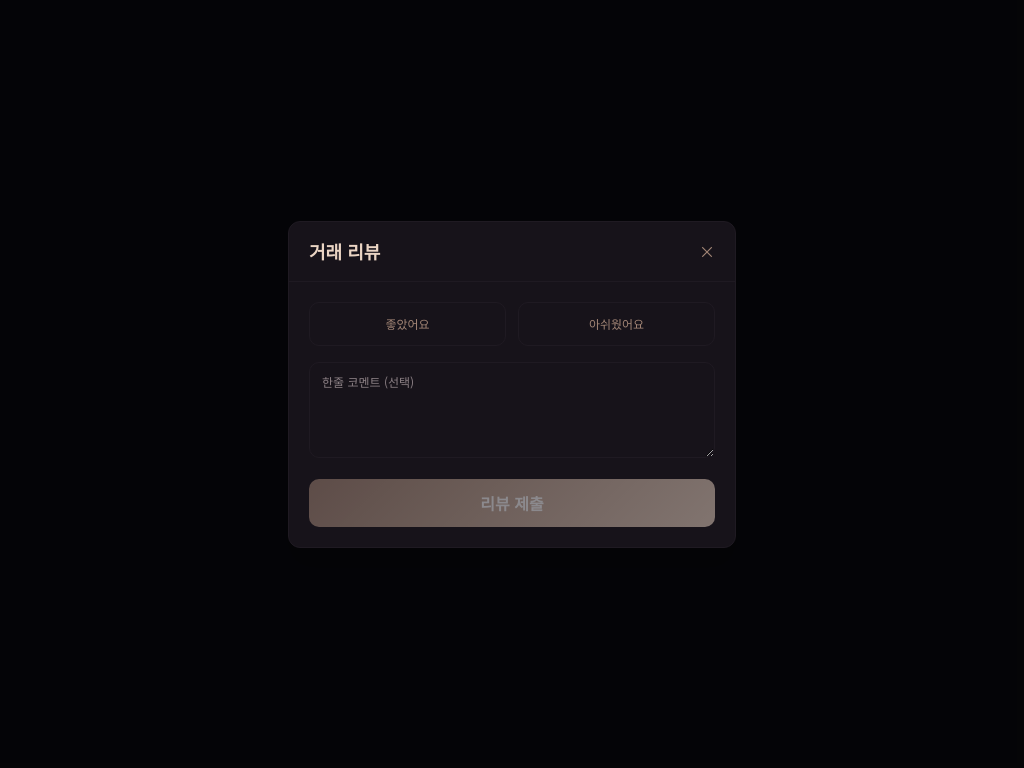
Test case: ReviewModal › shows selected rating state
The image size is (1024, 768).
Click the button "좋았어요".
click(408, 324)  # box [309,302,506,346]
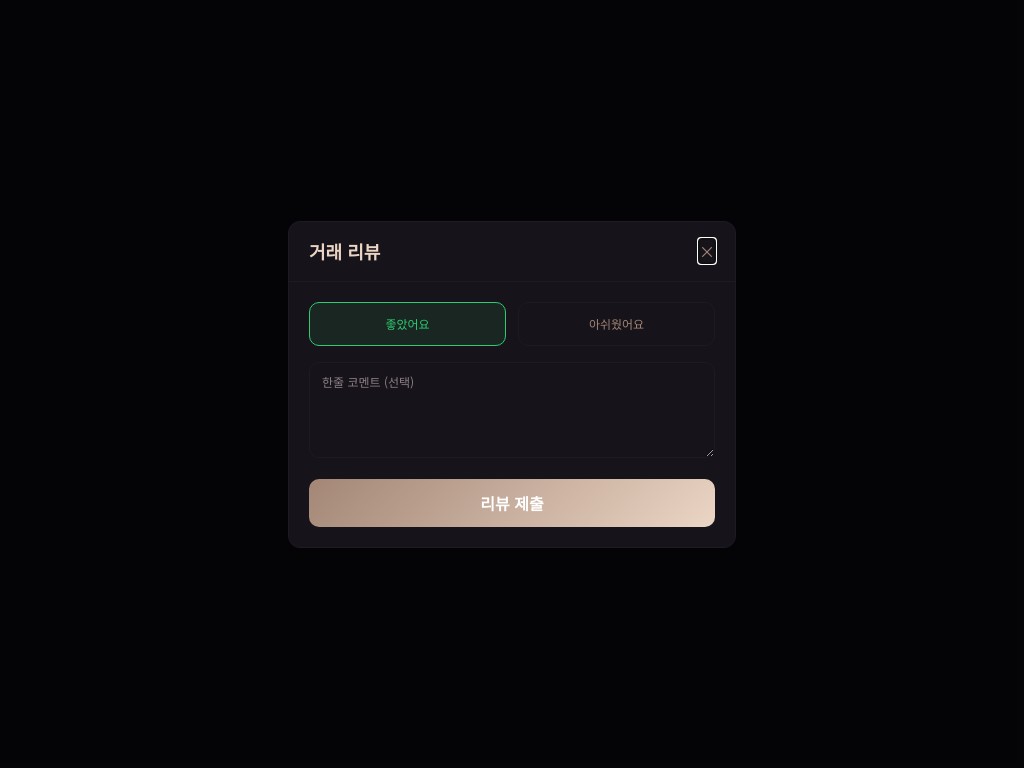
Expected: the button "리뷰 제출" is enabled, [309,478,715,526]
